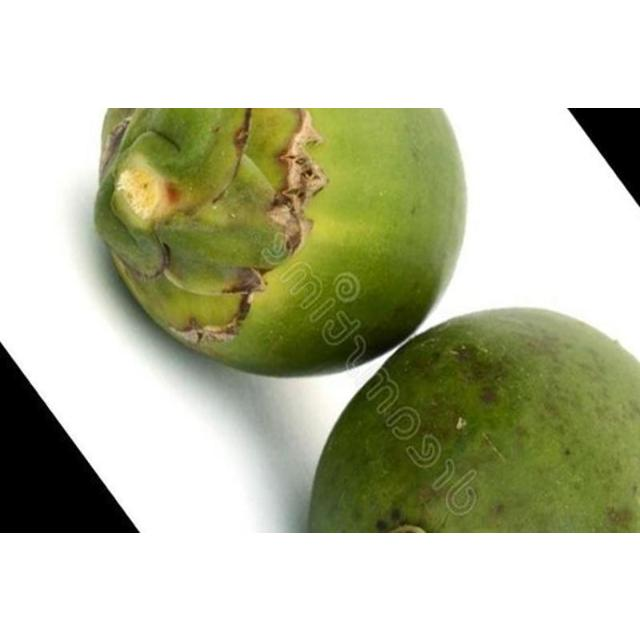good: (91, 107, 470, 379), (306, 307, 639, 532)
